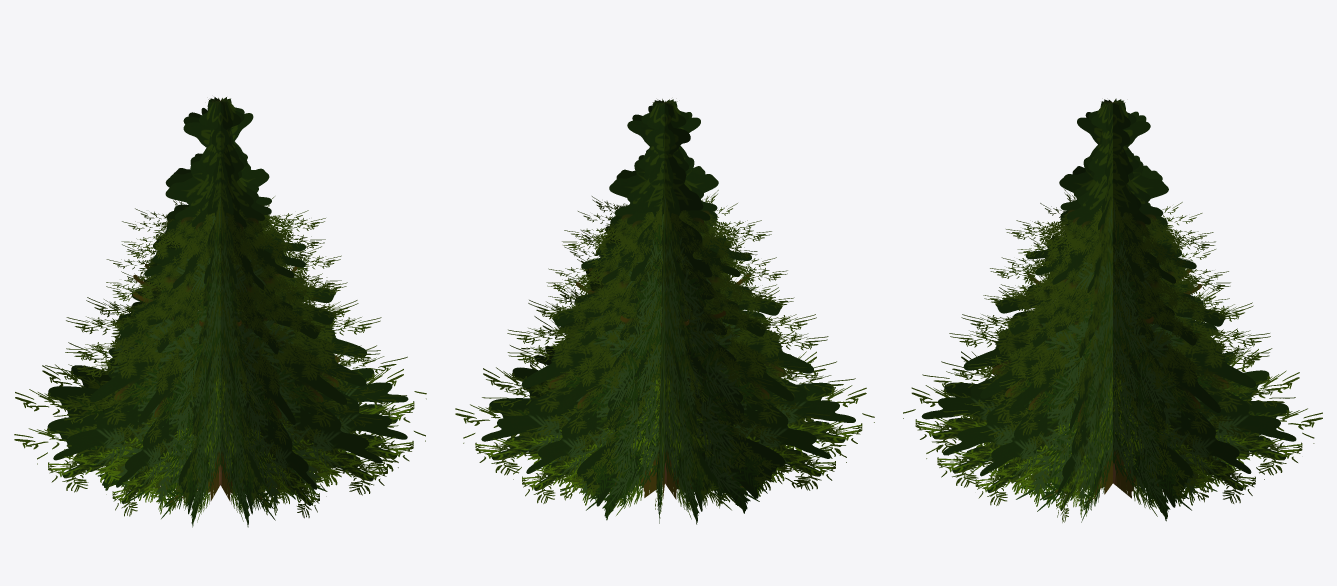
The model's file is Sapling4.obj.
The picture shows the model from 3 angles, left to right: view 1: azimuth 30°, elevation 25°; view 2: azimuth 150°, elevation 25°; view 3: azimuth 270°, elevation 25°; orthographic projection.
Parts seen in each view (by area): view 1: polySurface1; view 2: polySurface1; view 3: polySurface1.
Part boxes in pixels (x1,y1,x2,y2): polySurface1: (14,97,426,527); polySurface1: (455,99,874,524); polySurface1: (903,98,1322,522).
Bounding box in the file's own units: 10 × 10 × 10.
1 material, 1 textured.
